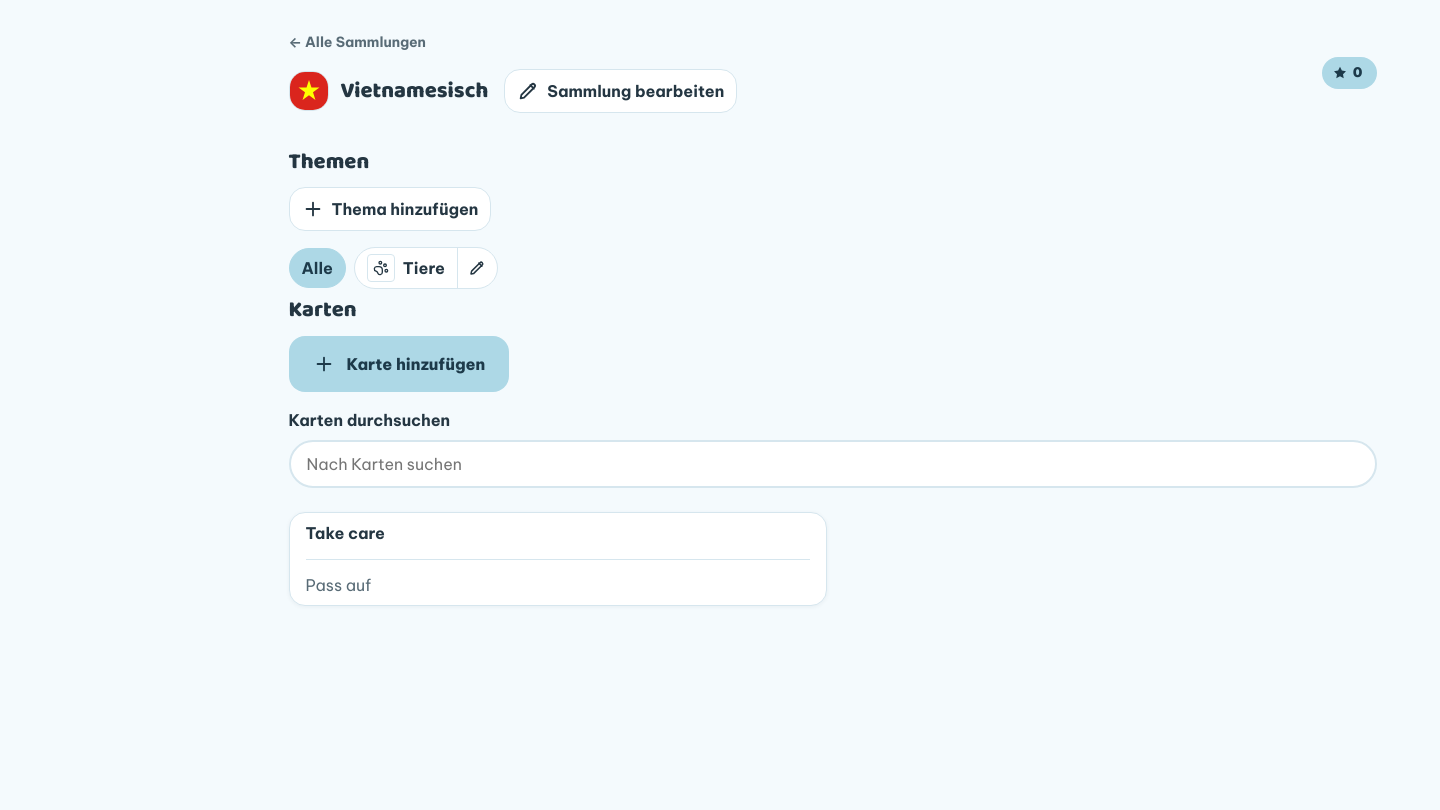
Test: rendered app journeys › lets the Learner edit a Topic without filtering first
Check: the heading "Themen" is shown, box [288, 149, 369, 175]
Click the button named "Tiere bearbeiten" at {"x": 477, "y": 268}, box [457, 248, 497, 288]
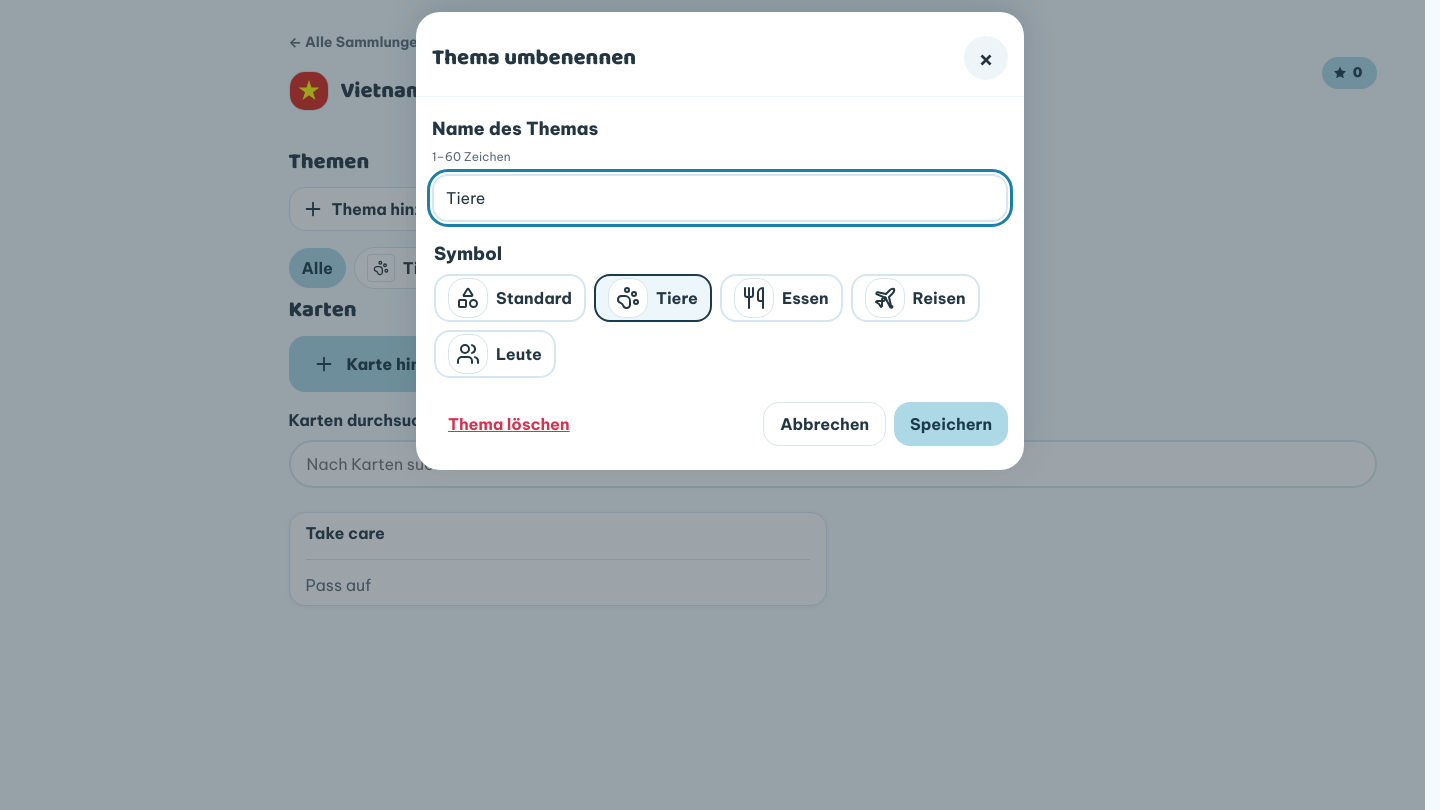
Check: the heading "Thema umbenennen" is shown, box [432, 42, 636, 74]
